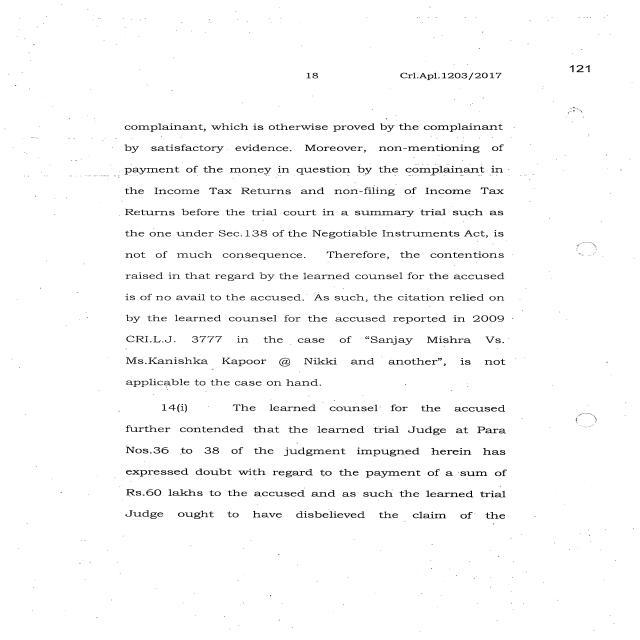page-number: (505, 38, 640, 104)
